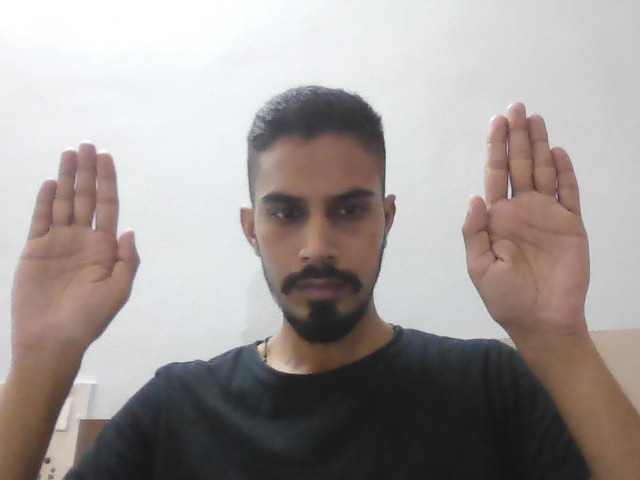Stop: (9, 124, 144, 350)
